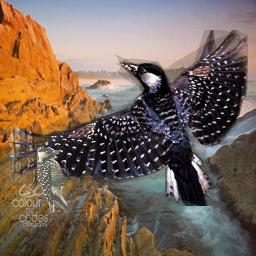Woodpecker: (9, 30, 248, 206), (37, 147, 71, 214)
